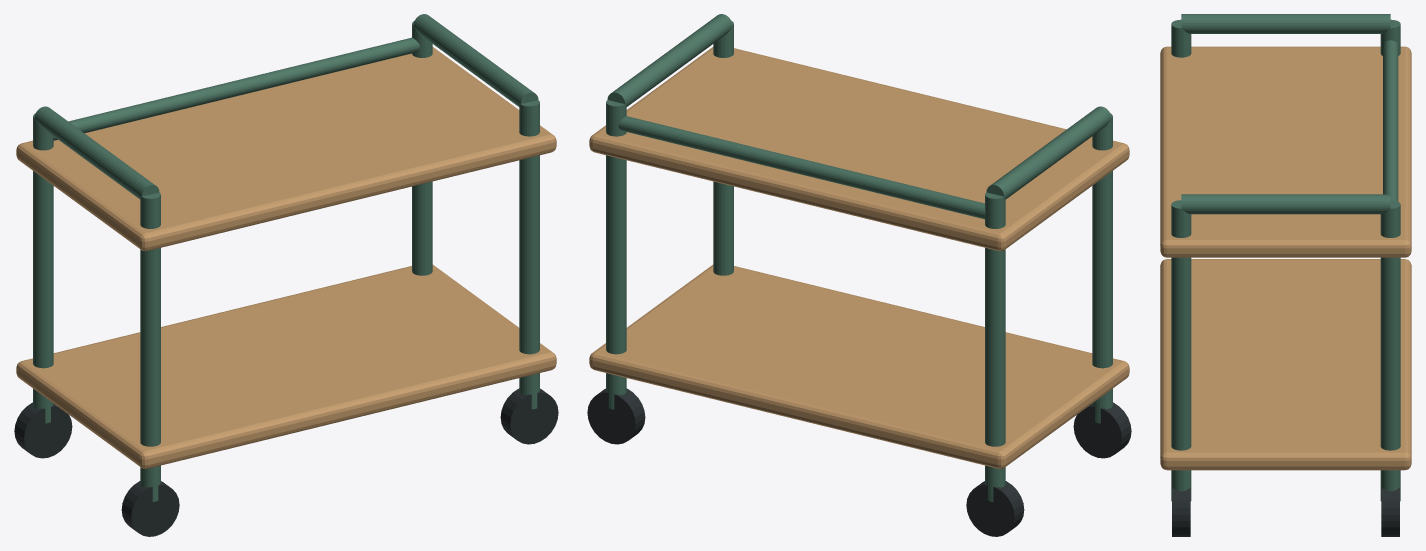
The model's file is tea-trolley-v01.glb.
3 renders of one model, left to right at view 1: azimuth 30°, elevation 25°; view 2: azimuth 150°, elevation 25°; view 3: azimuth 270°, elevation 25°, orthographic. The views are drawn at different scales.
Parts seen in each view (by area): view 1: Trolley shelf, Trolley shelf.001, Rear rim, Upright.002, Upright, Upright.001, Side handle, Side handle.001, Caster wheel.002, Caster wheel, Caster wheel.001, Upright.003 (+2 smaller); view 2: Trolley shelf, Trolley shelf.001, Rear rim, Upright.003, Upright.001, Upright, Side handle, Side handle.001, Caster wheel.003, Caster wheel.001, Caster wheel, Upright.002 (+1 smaller); view 3: Trolley shelf, Trolley shelf.001, Upright.003, Upright.002, Side handle.001, Side handle, Rear rim, Caster wheel.002, Caster wheel.003, Handle riser.002, Handle riser, Handle riser.003 (+1 smaller).
Boxes of the visible parts, x1,y1,x2,y2 form: Trolley shelf: (16,264,556,468); Trolley shelf.001: (16,47,556,251); Rear rim: (53,37,420,140); Upright.002: (519,112,539,409); Upright: (140,204,160,501); Upright.001: (33,125,53,423); Side handle: (34,106,159,199); Side handle.001: (413,14,538,106); Caster wheel.002: (500,388,558,444); Caster wheel: (121,481,179,536); Caster wheel.001: (14,402,72,458); Upright.003: (412,32,432,275); Trolley shelf: (589,264,1129,468); Trolley shelf.001: (589,47,1129,251); Rear rim: (618,116,985,219); Upright.003: (606,110,626,409); Upright.001: (985,207,1005,501); Upright: (1092,125,1112,423); Side handle: (986,106,1111,199); Side handle.001: (607,14,732,106); Caster wheel.003: (587,388,645,444); Caster wheel.001: (966,481,1024,536); Caster wheel: (1073,402,1131,458); Upright.002: (713,33,733,275); Trolley shelf: (1160,259,1411,470); Trolley shelf.001: (1160,46,1411,257); Upright.003: (1380,213,1400,501); Upright.002: (1171,214,1191,501); Side handle.001: (1181,194,1390,214); Side handle: (1181,14,1390,33); Rear rim: (1383,40,1398,201); Caster wheel.002: (1172,487,1190,536); Caster wheel.003: (1381,487,1399,536); Handle riser.002: (1171,200,1191,237); Handle riser: (1171,19,1191,57); Handle riser.003: (1380,200,1400,237).
Size of the model in its own units: 1.15 by 0.894 by 0.6.
